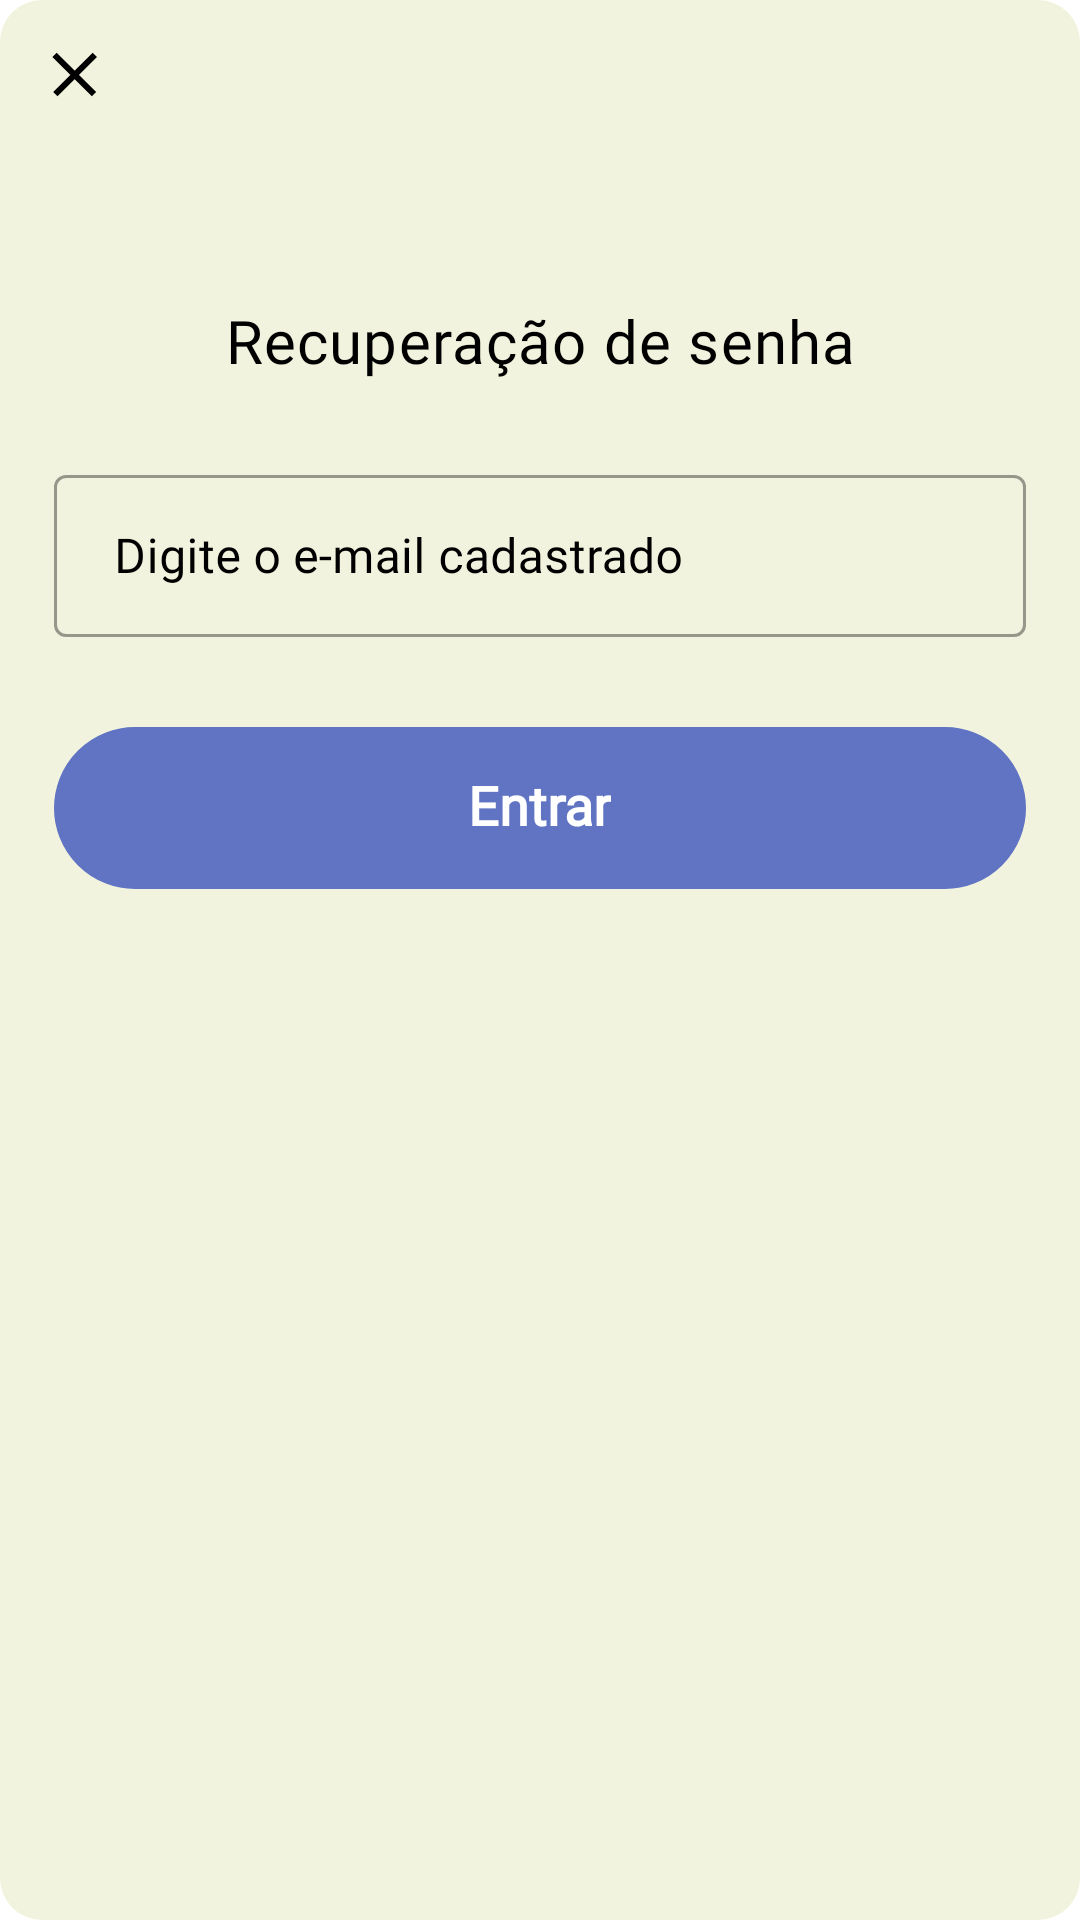

Where to tap for icons on this 1080 × 1920 app screen, as (x,y):
cancel: (74,74)
